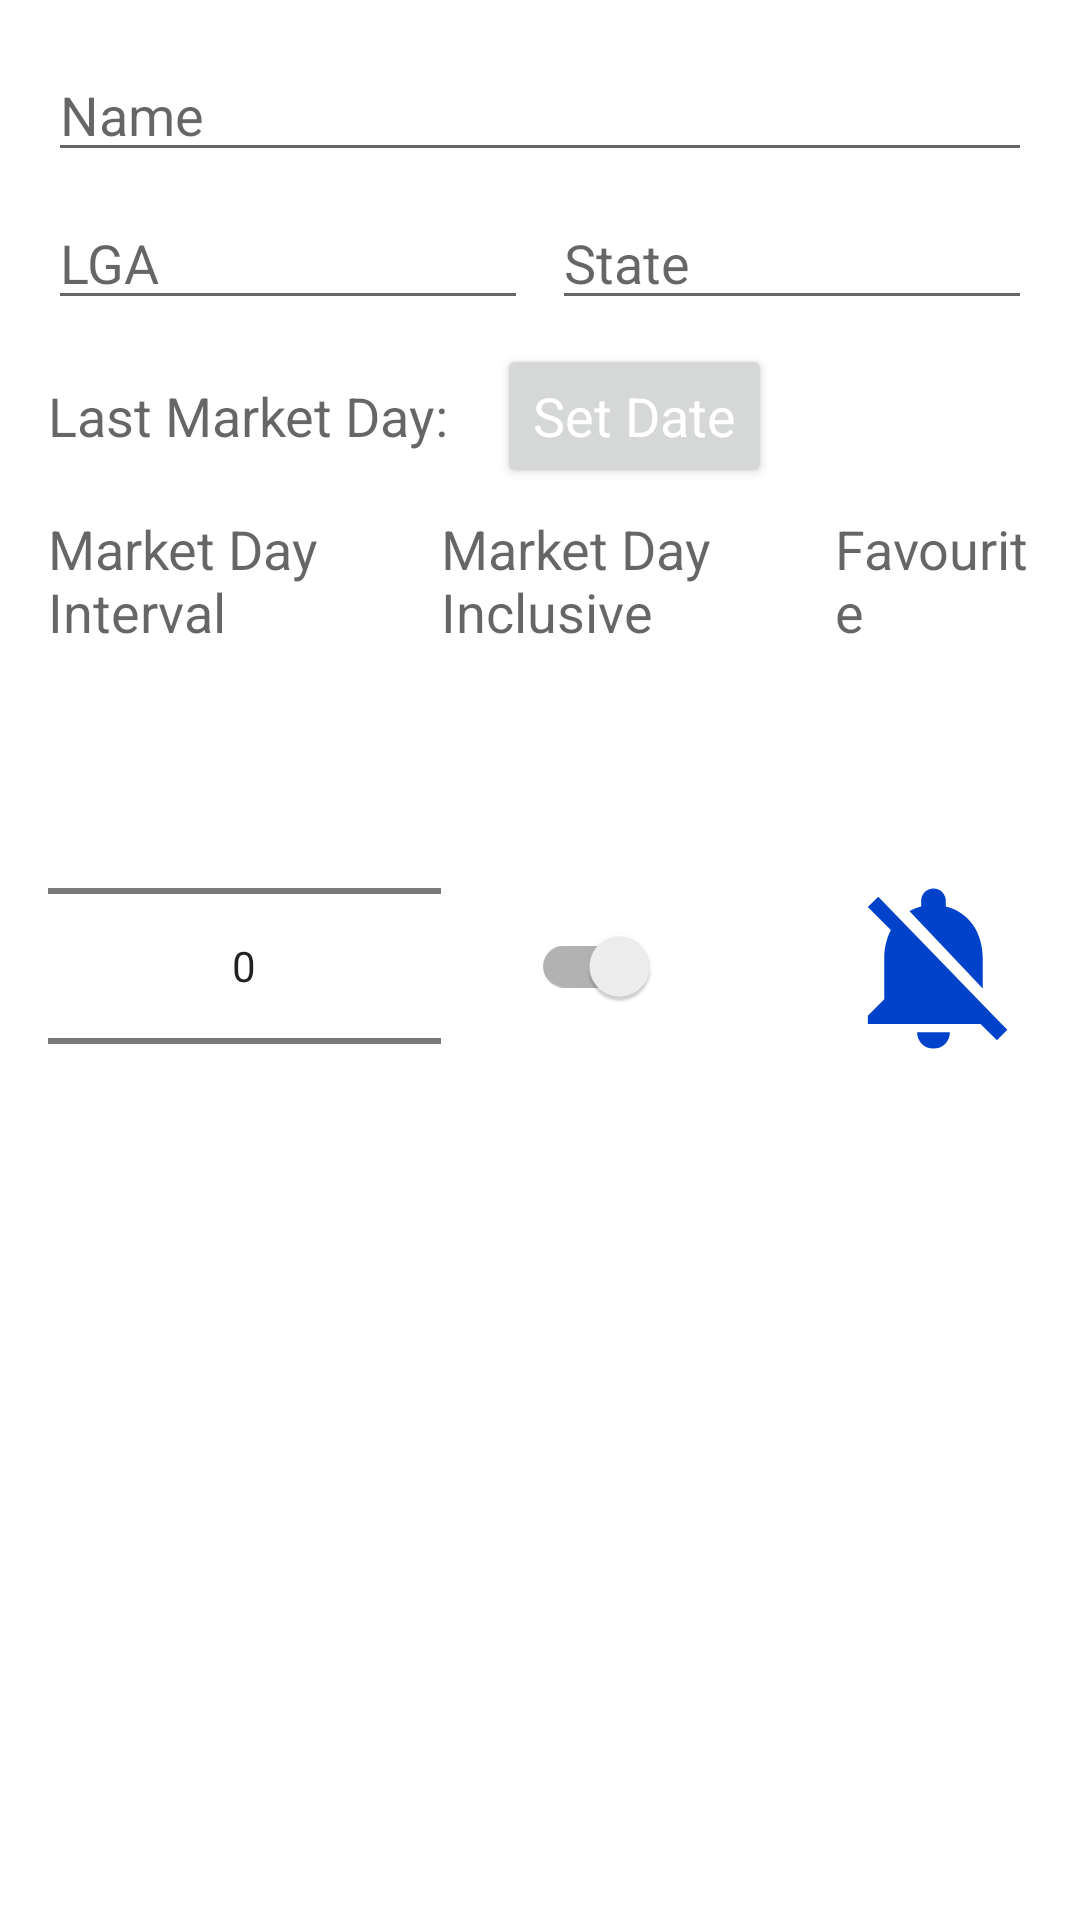

Icon bounding boxes for this 1080px x 1920px phone screenshot, format detection(x1, y1, x2, y2):
Notification Icon: detection(867, 888, 1008, 1049)
